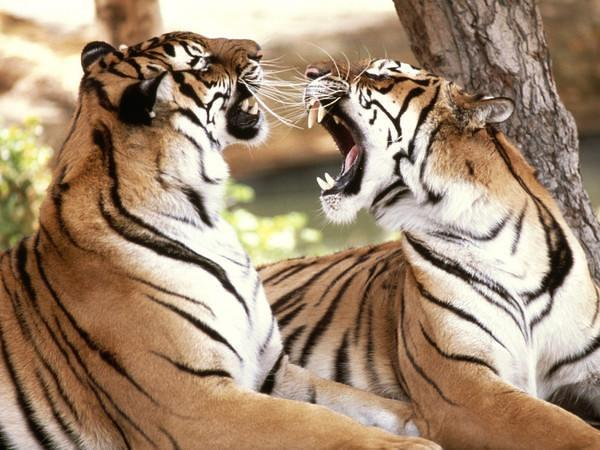tiger: (1, 30, 450, 450), (253, 48, 600, 450)
